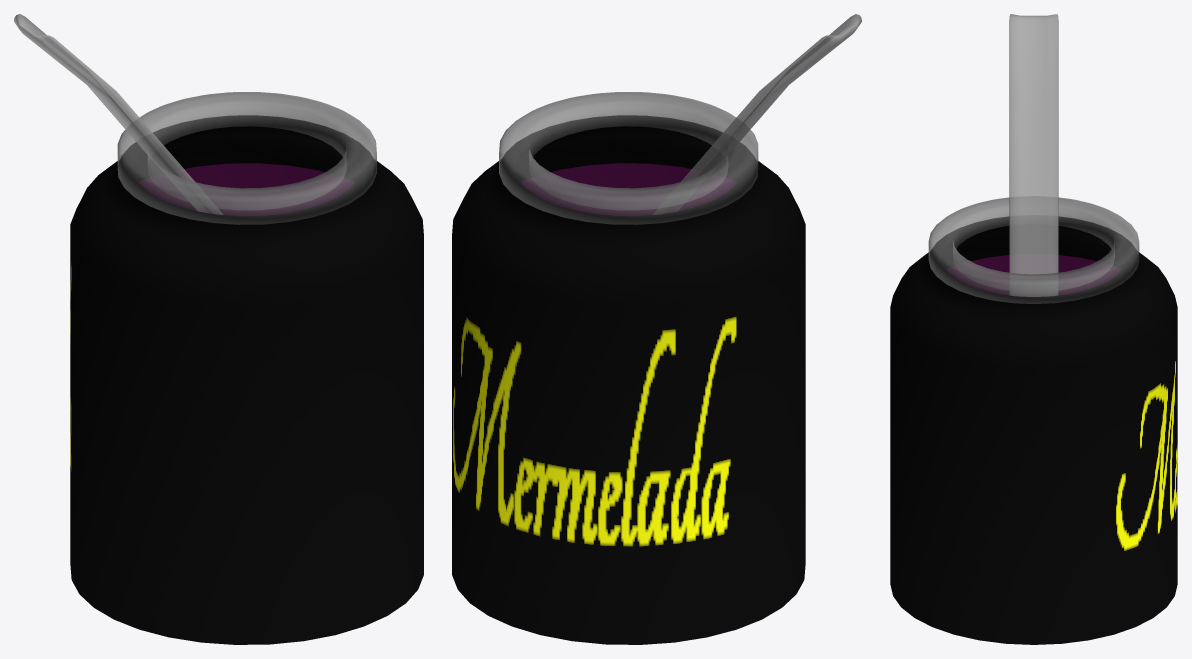
File: Mermelada.glb
The picture shows the model from 3 angles, left to right: view 1: azimuth 30°, elevation 25°; view 2: azimuth 150°, elevation 25°; view 3: azimuth 270°, elevation 25°; orthographic projection. The views are drawn at different scales.
Visible parts, largest first — view 1: Circle, Plane; view 2: Circle, Plane; view 3: Circle, Plane.
Boxes of the visible parts, x1=… form: Circle: x1=70, y1=92, x2=423, y2=644; Plane: x1=14, y1=14, x2=222, y2=214; Circle: x1=452, y1=92, x2=805, y2=644; Plane: x1=653, y1=14, x2=861, y2=214; Circle: x1=890, y1=196, x2=1177, y2=644; Plane: x1=1009, y1=14, x2=1058, y2=296.
Bounding box in the file's own units: 2.44 × 3.72 × 2.
4 materials, 1 textured.
